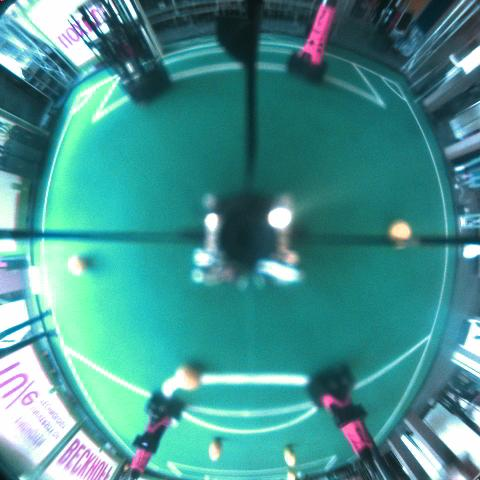ball: (175, 367, 201, 389), (390, 222, 411, 245), (208, 439, 225, 460), (67, 257, 85, 276), (285, 447, 297, 467), (287, 470, 295, 479), (124, 463, 130, 471)
robot: (66, 1, 174, 102), (307, 367, 378, 471), (131, 390, 189, 479), (286, 4, 337, 84)
